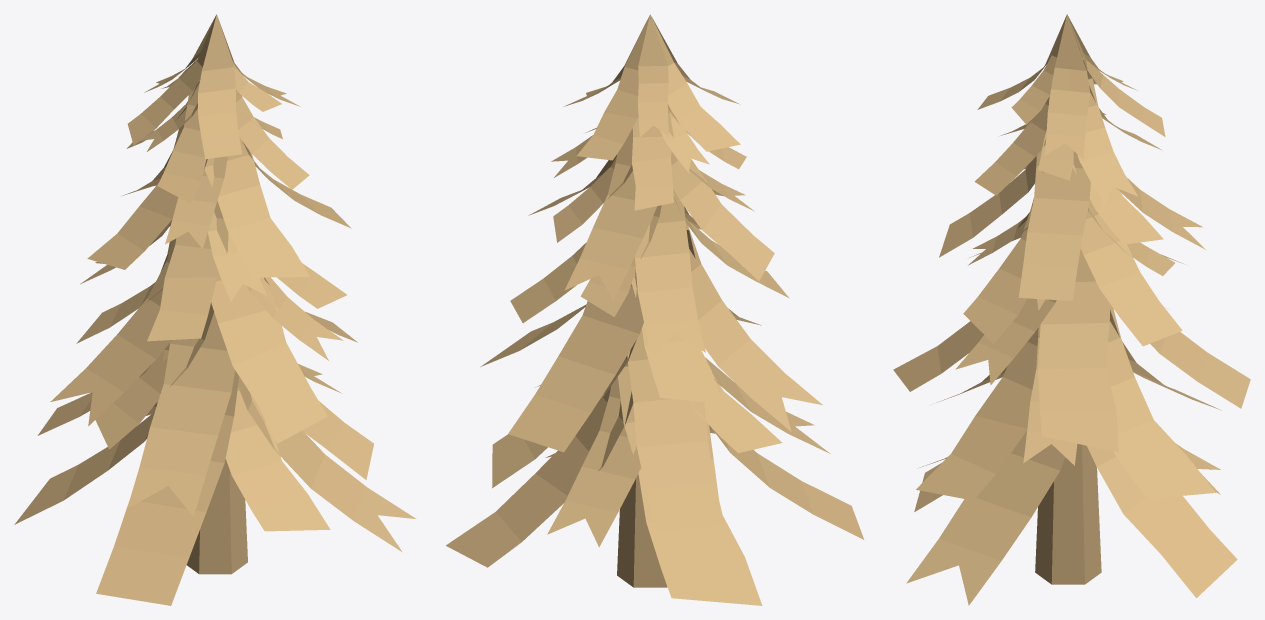
File: Mega_Asset_s_Pack_Cylinder_023.FBX
3 renders of one model, left to right at view 1: azimuth 30°, elevation 25°; view 2: azimuth 150°, elevation 25°; view 3: azimuth 270°, elevation 25°, orthographic. The views are drawn at different scales.
Parts seen in each view (by area): view 1: Mega_Asset_s_Pack_Cylinder_023; view 2: Mega_Asset_s_Pack_Cylinder_023; view 3: Mega_Asset_s_Pack_Cylinder_023.
Boxes of the visible parts, <box> form: Mega_Asset_s_Pack_Cylinder_023: <box>14,14,415,605</box>; Mega_Asset_s_Pack_Cylinder_023: <box>446,14,864,605</box>; Mega_Asset_s_Pack_Cylinder_023: <box>893,14,1250,605</box>.
Size of what is drawn, in the model's own units: 253 by 242 by 418.
